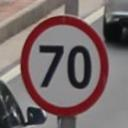speed_limit_70: (18, 13, 111, 119)
